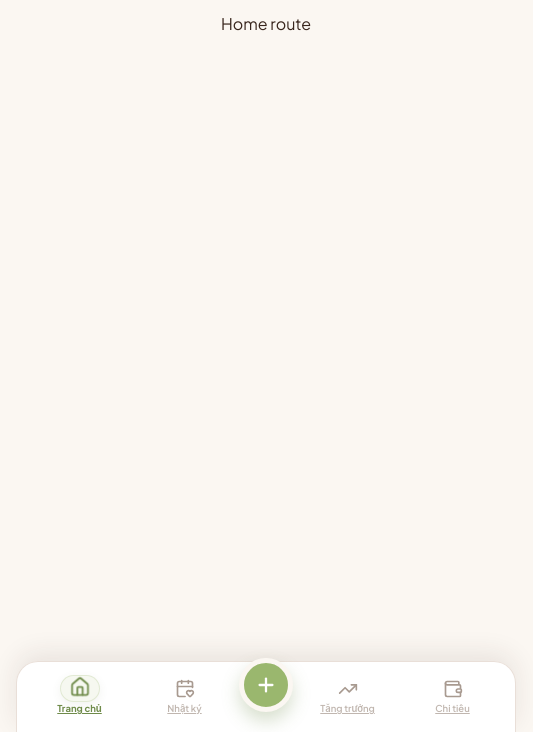
Test: BottomNav › prefetches on interaction intent before navigation
This screenshot has width=533, height=732.
Press the mouse on the link "Nhật ký" at [184, 697], box [167, 679, 202, 714]
Expected: the text "Home route" is shown, [221, 13, 311, 34]
Click the link "Nhật ký" at [184, 697], box [167, 679, 202, 714]
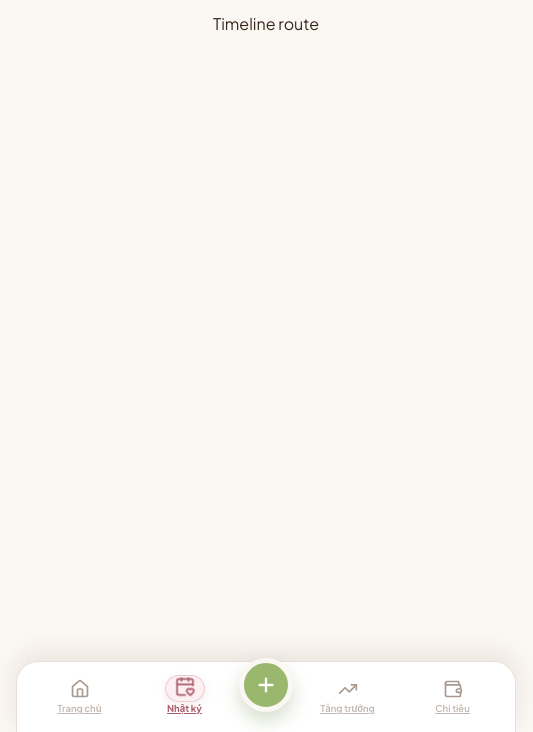
Result: the text "Timeline route" is shown at [213, 13, 319, 34]
